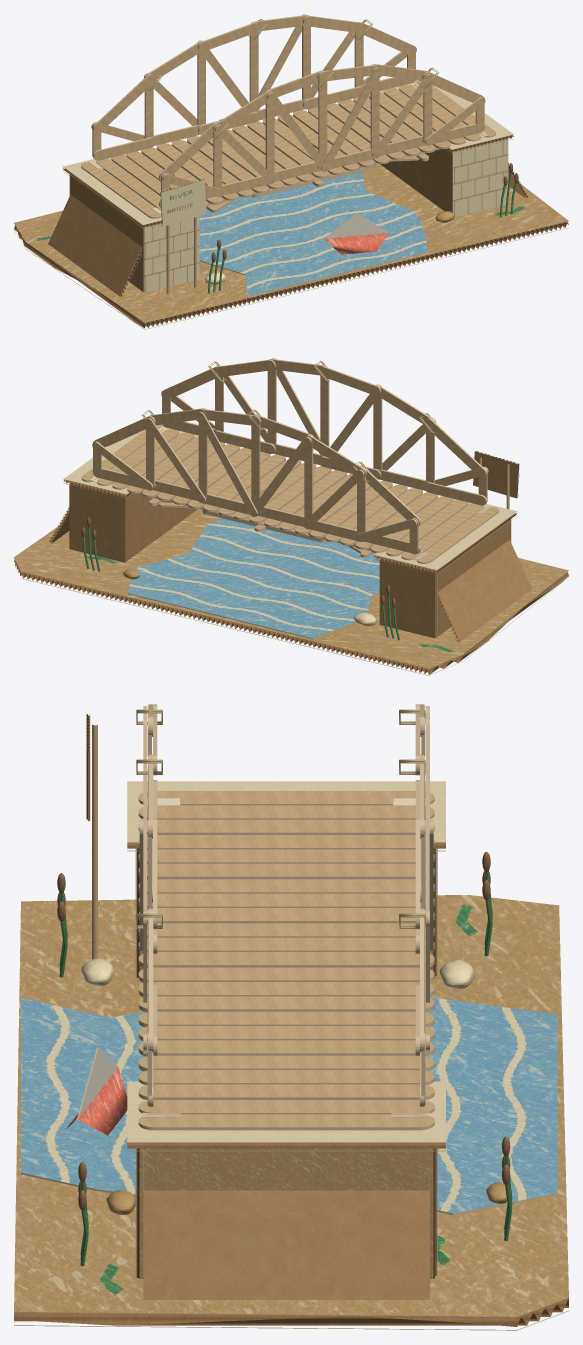
File: 37_craft_stick_bridge.glb
3 views of the same model, one above another, from view 1: azimuth 30°, elevation 25°; view 2: azimuth 150°, elevation 25°; view 3: azimuth 270°, elevation 25° (orthographic). The views are drawn at different scales.
Visible parts, largest first — view 1: artwork_37_craft_stick_bridge, wood_light, wood, edge, kraft, flute, cream, coral, white, green, twine; view 2: artwork_37_craft_stick_bridge, wood_light, kraft, wood, edge, flute, cream, green, twine; view 3: artwork_37_craft_stick_bridge, wood_light, kraft, edge, wood, sand, flute, cream, coral, green, clay_cream, brown (+3 smaller).
Part boxes in pixels (bbox=[...]): artwork_37_craft_stick_bridge: bbox=[14, 138, 568, 322]; wood_light: bbox=[94, 16, 495, 209]; wood: bbox=[81, 25, 484, 294]; edge: bbox=[14, 14, 568, 329]; kraft: bbox=[48, 149, 525, 296]; flute: bbox=[14, 135, 568, 328]; cream: bbox=[63, 80, 513, 224]; coral: bbox=[324, 233, 388, 254]; white: bbox=[325, 213, 388, 238]; green: bbox=[208, 172, 516, 293]; twine: bbox=[144, 19, 439, 139]; artwork_37_craft_stick_bridge: bbox=[14, 509, 568, 668]; wood_light: bbox=[81, 360, 485, 558]; kraft: bbox=[51, 451, 531, 641]; wood: bbox=[92, 369, 509, 562]; edge: bbox=[14, 358, 568, 675]; flute: bbox=[14, 451, 568, 674]; cream: bbox=[64, 425, 516, 569]; green: bbox=[82, 526, 399, 640]; twine: bbox=[142, 360, 436, 482]; artwork_37_craft_stick_bridge: bbox=[14, 895, 568, 1316]; wood_light: bbox=[138, 805, 434, 1127]; kraft: bbox=[143, 1190, 429, 1299]; edge: bbox=[14, 704, 568, 1330]; wood: bbox=[92, 724, 434, 1112]; sand: bbox=[139, 952, 433, 1278]; flute: bbox=[14, 714, 568, 1326]; cream: bbox=[127, 781, 445, 1142]; coral: bbox=[66, 1067, 127, 1135]; green: bbox=[59, 871, 512, 1266]; clay_cream: bbox=[81, 958, 474, 989]; brown: bbox=[57, 852, 510, 1210].
Bounding box in the file's own units: 0.714 × 0.2886 × 0.397.
Materials: 17 (15 with a texture image).
